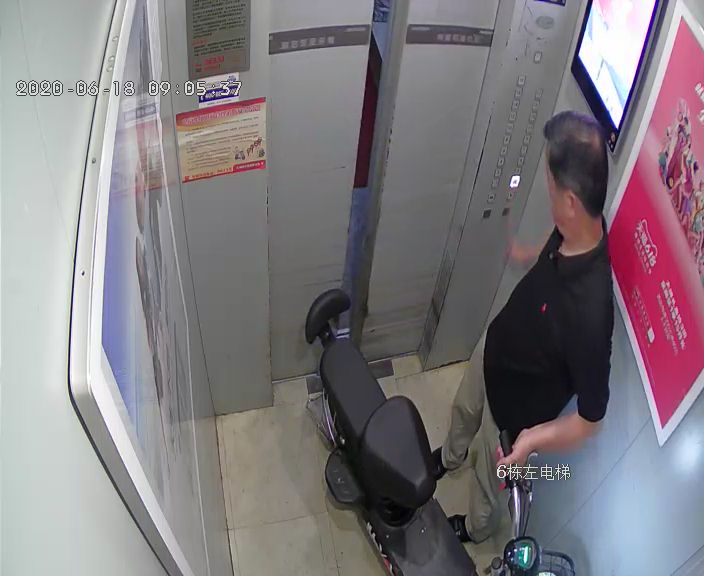Electric-bicycle: (304, 288, 577, 574)
